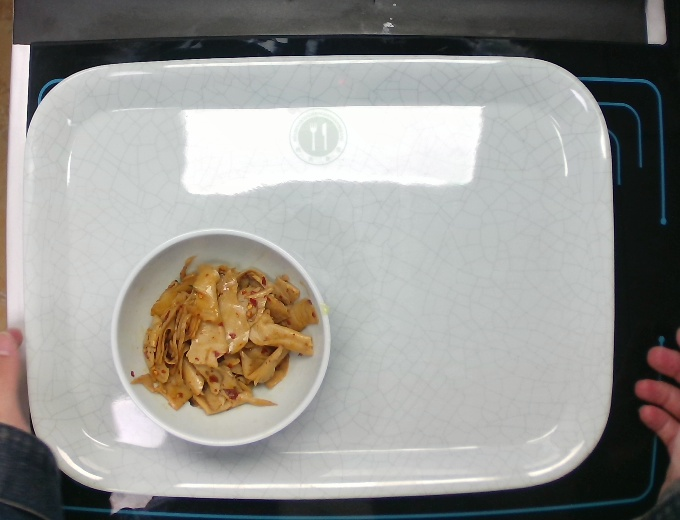JYsf-Fan_Wan: (99, 221, 330, 452)
